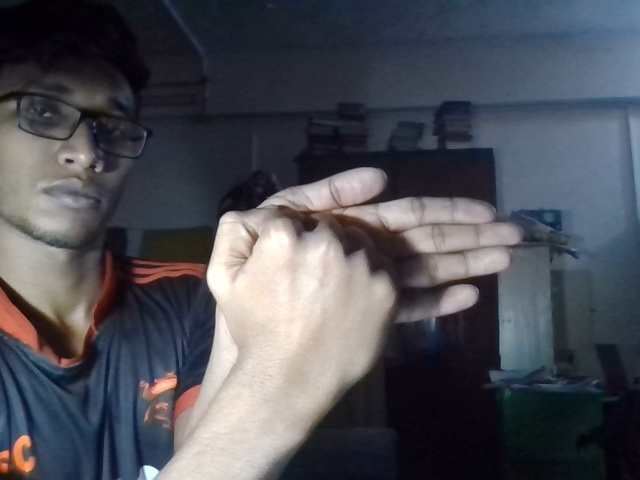b: (190, 158, 531, 364)
